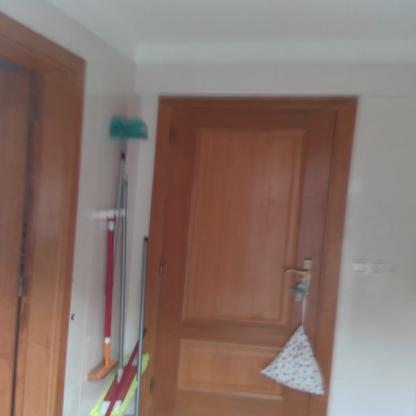door: (167, 106, 320, 416)
hinged: (147, 378, 156, 394), (158, 257, 165, 275), (168, 125, 174, 143)
lever: (284, 267, 310, 275)
